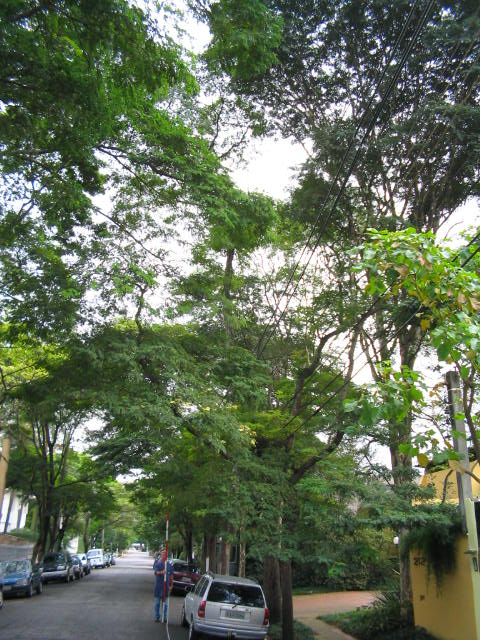stick: (157, 506, 174, 625)
